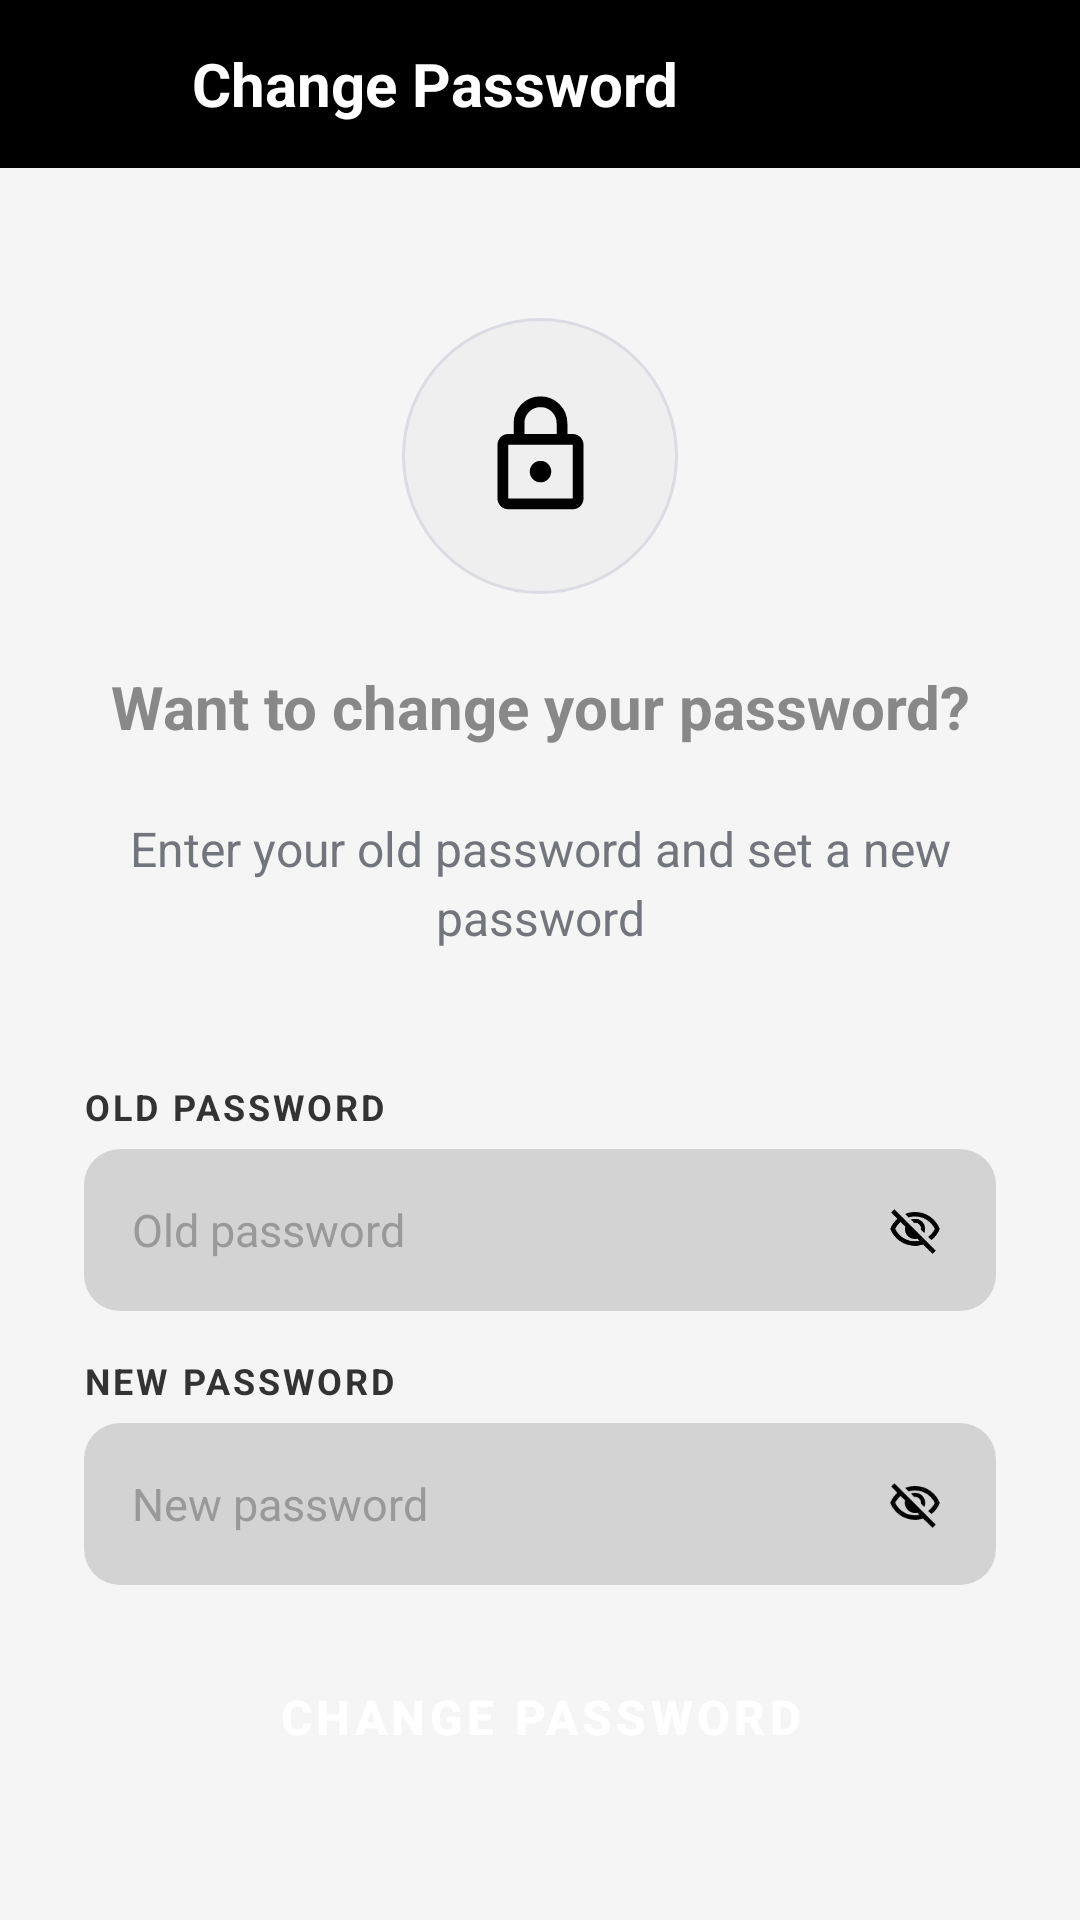

Named icons in this screenshot (1080px x 1920px) and their bounding boxes, [x1=x1, y1=y1, x2=x2, y2=y2]:
lock: [x1=497, y1=396, x2=584, y2=510]
Toggle Password: [x1=890, y1=1209, x2=940, y2=1254], [x1=890, y1=1483, x2=940, y2=1528]
